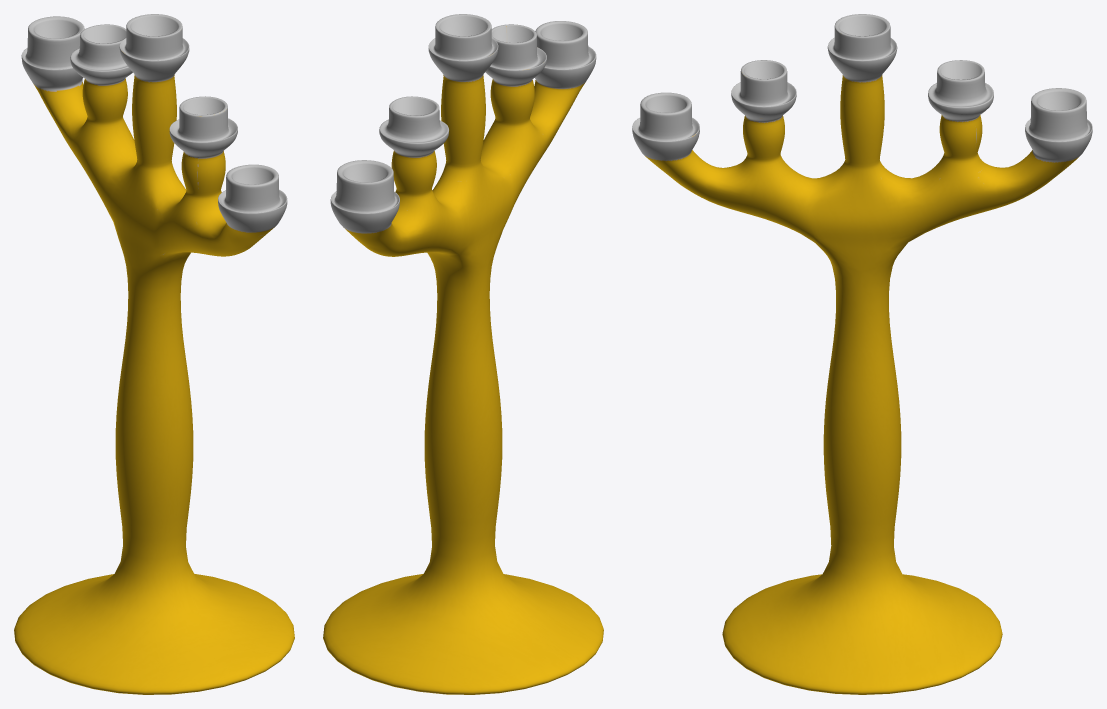
Rendered from Candlestick_4.fbx.
3 renders of one model, left to right at view 1: azimuth 30°, elevation 25°; view 2: azimuth 150°, elevation 25°; view 3: azimuth 270°, elevation 25°, orthographic.
Parts seen in each view (by area): view 1: Cube; view 2: Cube; view 3: Cube.
Part boxes in pixels (x1,y1,x2,y2): Cube: [14, 14, 294, 694]; Cube: [323, 14, 603, 694]; Cube: [632, 14, 1092, 694].
Size of the model in its own units: 16.16 by 38.97 by 26.57.
1 material, 1 textured.
